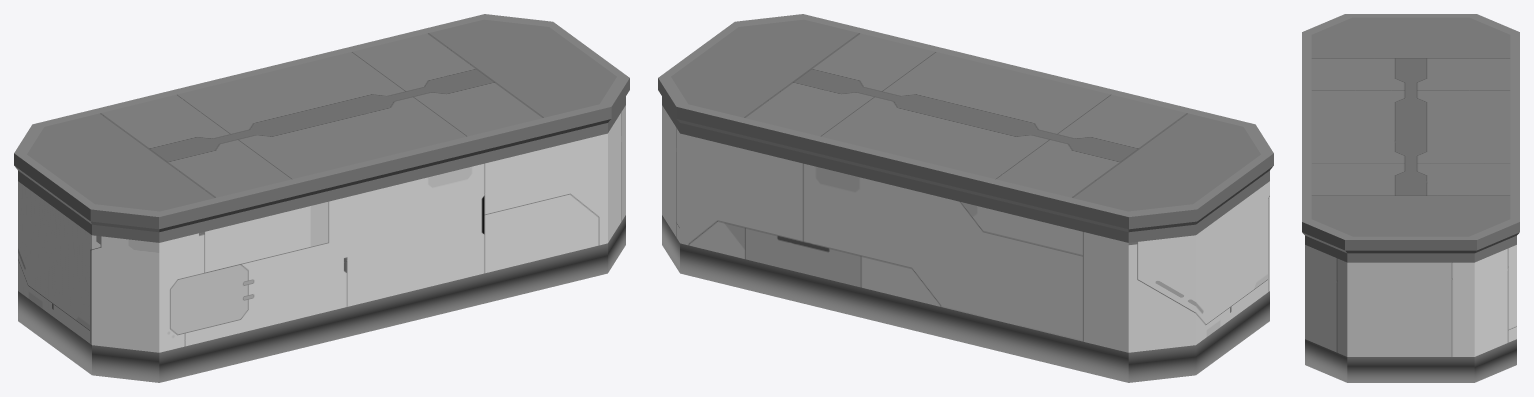
The model's file is SM_Platform_2x5_1.fbx.
3 views of the same model, side by side, from view 1: azimuth 30°, elevation 25°; view 2: azimuth 150°, elevation 25°; view 3: azimuth 270°, elevation 25° (orthographic). The views are drawn at different scales.
Parts seen in each view (by area): view 1: SM_Platform_2x5_1; view 2: SM_Platform_2x5_1; view 3: SM_Platform_2x5_1.
Part boxes in pixels (x1=…): SM_Platform_2x5_1: x1=14, y1=14, x2=629, y2=382; SM_Platform_2x5_1: x1=658, y1=14, x2=1273, y2=382; SM_Platform_2x5_1: x1=1302, y1=14, x2=1519, y2=382.
Bounding box in the file's own units: 505 × 150 × 206.
